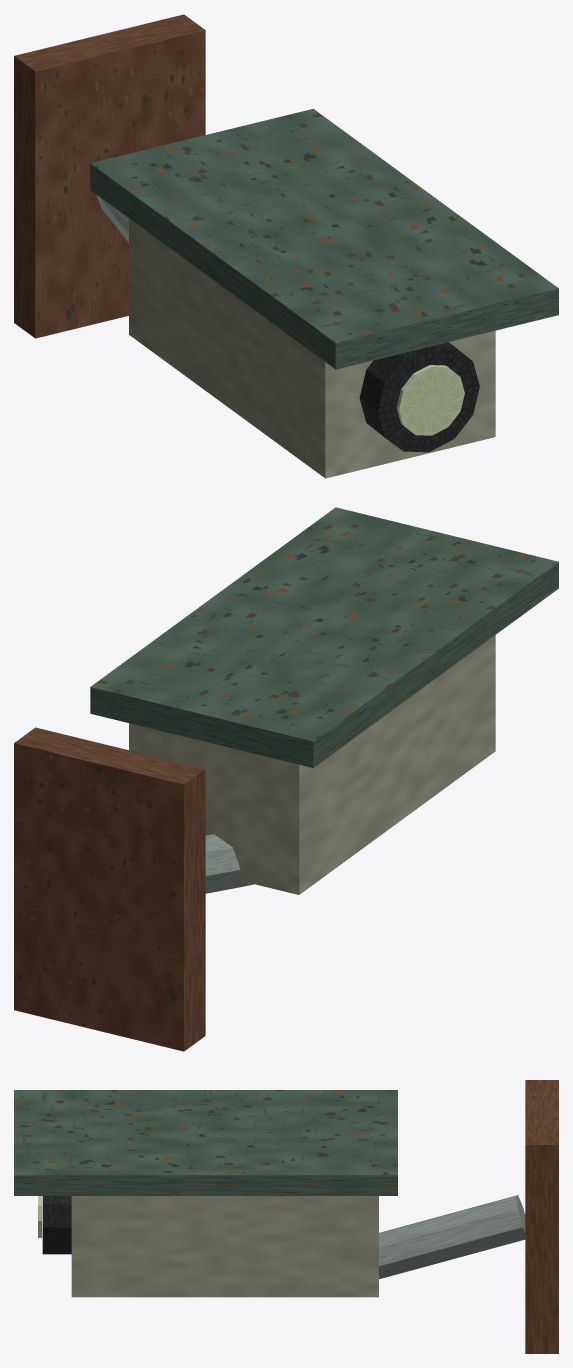
Rendered from SecurityCamera.glb.
The picture shows the model from 3 angles, top to bottom: view 1: azimuth 30°, elevation 25°; view 2: azimuth 150°, elevation 25°; view 3: azimuth 270°, elevation 25°; orthographic projection. The views are drawn at different scales.
Visible parts, largest first — view 1: SecurityCamera; view 2: SecurityCamera; view 3: SecurityCamera.
Boxes of the visible parts, x1,y1,x2,y2 form: SecurityCamera: [14, 14, 558, 478]; SecurityCamera: [14, 507, 558, 1051]; SecurityCamera: [14, 1080, 558, 1353].
Size of the model in its own units: 0.21 by 0.24 by 0.5675.
6 materials, 6 textured.
